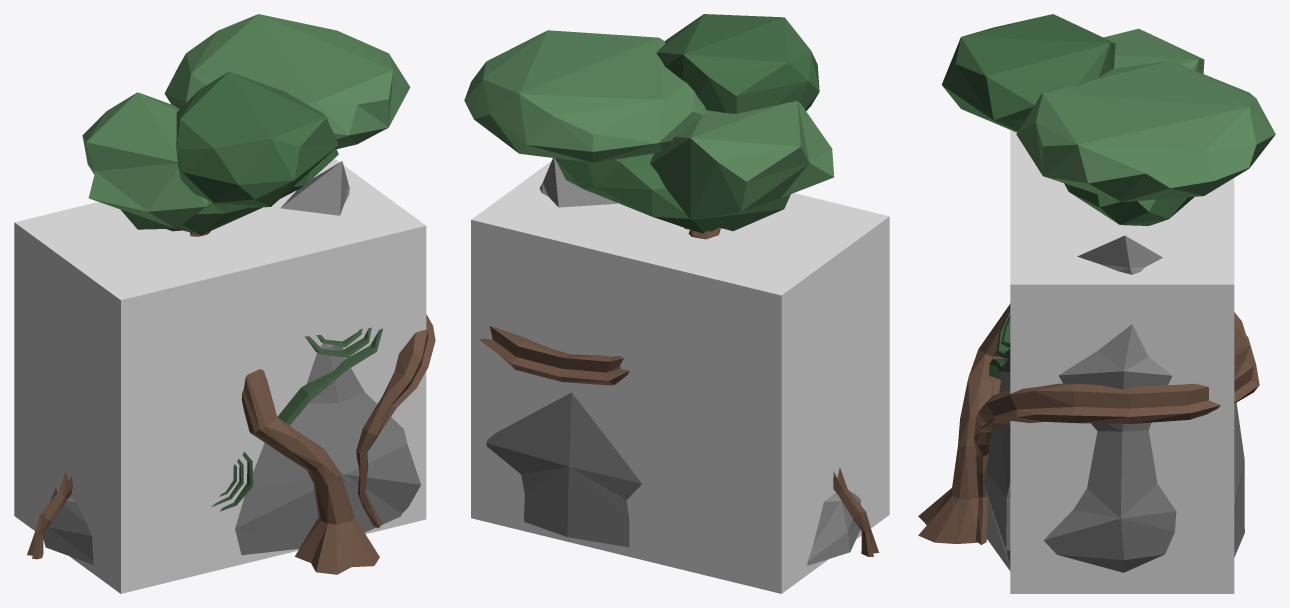
Rendered from elf_rock_tree.glb.
3 views of the same model, side by side, from view 1: azimuth 30°, elevation 25°; view 2: azimuth 150°, elevation 25°; view 3: azimuth 270°, elevation 25° (orthographic). The views are drawn at different scales.
Visible parts, largest first — view 1: Cube.003, tree_1; view 2: Cube.003, tree_1; view 3: tree_1, Cube.003.
Boxes of the visible parts, x1,y1,x2,y2 form: Cube.003: (14,158,426,593); tree_1: (27,14,435,574); Cube.003: (471,161,889,593); tree_1: (464,14,879,565); tree_1: (918,14,1275,572); Cube.003: (1010,130,1234,593).
Bounding box in the file's own units: 3.46 × 3.97 × 2.71.
1 material, 1 textured.
